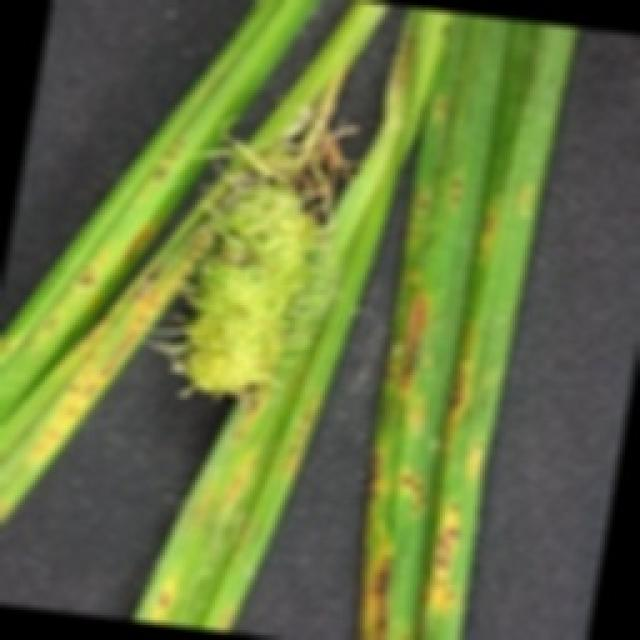Elderberry_rust: (148, 72, 362, 410)
